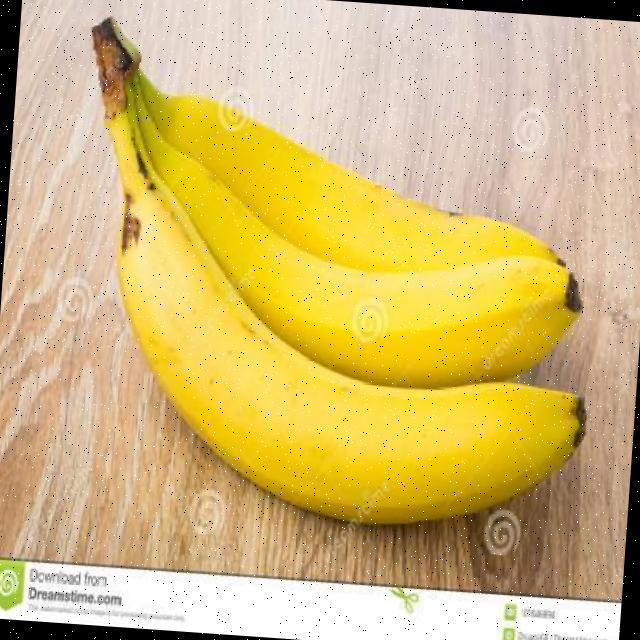banana: (95, 20, 583, 527)
